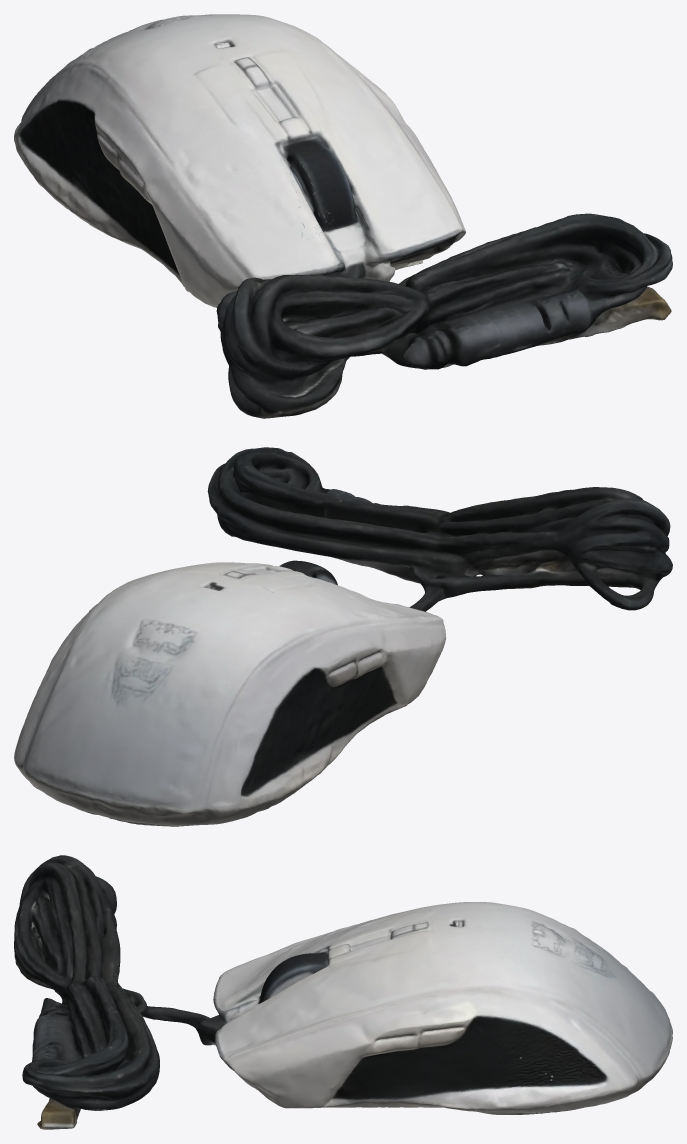
File: Razer_Taipan_White_Ambidextrous_Gaming_Mouse.glb
3 renders of one model, top to bottom at view 1: azimuth 30°, elevation 25°; view 2: azimuth 150°, elevation 25°; view 3: azimuth 270°, elevation 25°, orthographic. The views are drawn at different scales.
Parts seen in each view (by area): view 1: geometry_0; view 2: geometry_0; view 3: geometry_0.
Boxes of the visible parts, <box> form: geometry_0: <box>14,14,672,418</box>; geometry_0: <box>14,447,672,826</box>; geometry_0: <box>14,855,672,1129</box>.
Bounding box in the file's own units: 0.6827 × 0.2381 × 1.
Materials: 1 (1 with a texture image).
